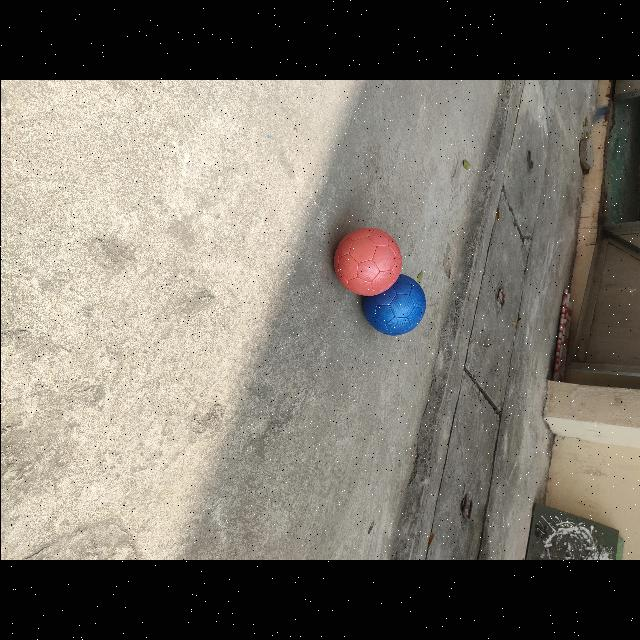B: (362, 274, 425, 336)
R: (333, 227, 401, 295)
